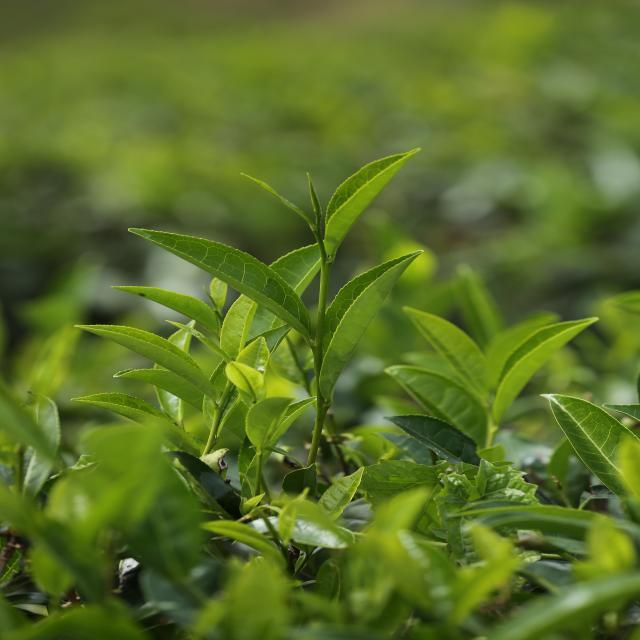Stem: (321, 260, 330, 272)
